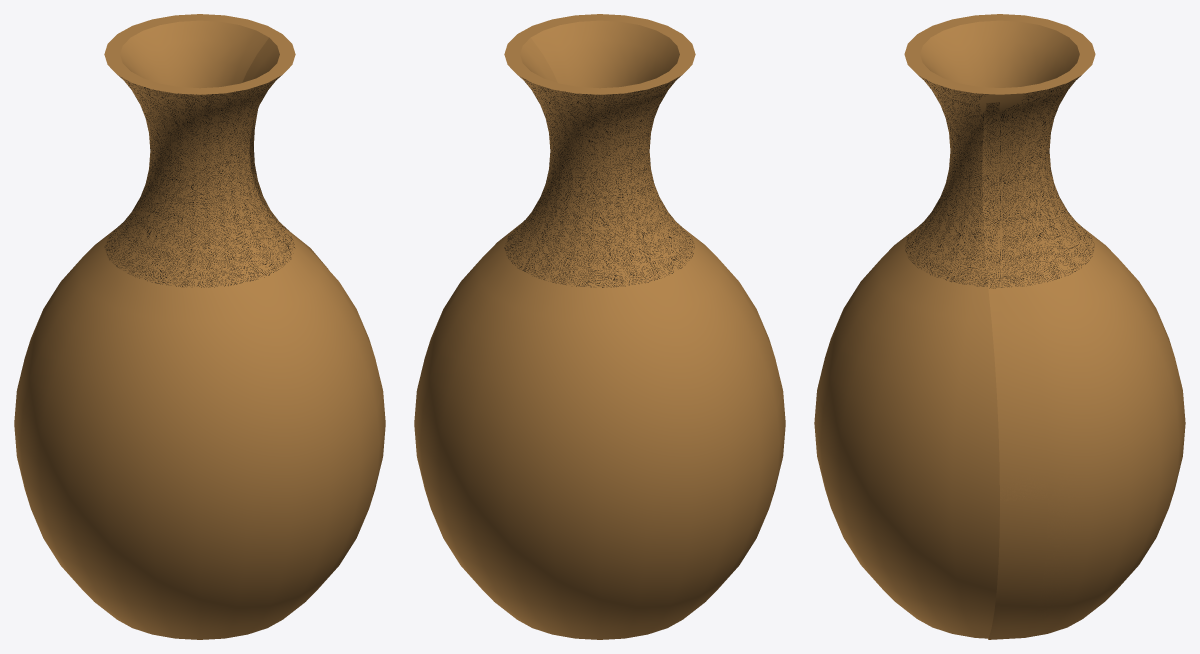
Rendered from vase3.dae.
The picture shows the model from 3 angles, left to right: view 1: azimuth 30°, elevation 25°; view 2: azimuth 150°, elevation 25°; view 3: azimuth 270°, elevation 25°; orthographic projection.
Visible parts, largest first — view 1: SketchUp, SketchUp_001, SketchUp_002, SketchUp_003; view 2: SketchUp, SketchUp_001, SketchUp_002, SketchUp_003; view 3: SketchUp, SketchUp_001, SketchUp_002, SketchUp_003.
Boxes of the visible parts, bbox=[...] form: SketchUp: bbox=[14, 228, 385, 639]; SketchUp_001: bbox=[104, 75, 295, 288]; SketchUp_002: bbox=[120, 20, 279, 88]; SketchUp_003: bbox=[104, 14, 295, 94]; SketchUp: bbox=[414, 224, 785, 639]; SketchUp_001: bbox=[504, 75, 695, 288]; SketchUp_002: bbox=[520, 20, 679, 88]; SketchUp_003: bbox=[504, 14, 695, 94]; SketchUp: bbox=[814, 228, 1185, 639]; SketchUp_001: bbox=[904, 75, 1095, 288]; SketchUp_002: bbox=[920, 20, 1079, 87]; SketchUp_003: bbox=[904, 14, 1095, 94].
Size of the model in its own units: 0.3207 by 0.3207 by 0.5191.
